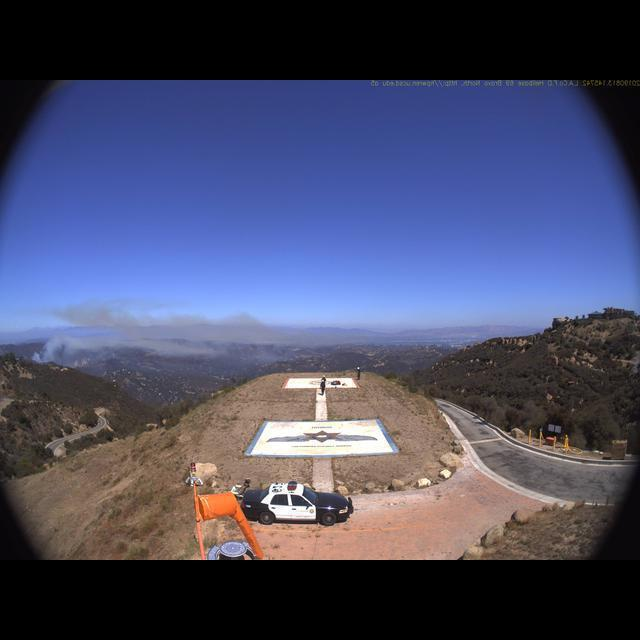Smoke: (32, 300, 253, 365)
